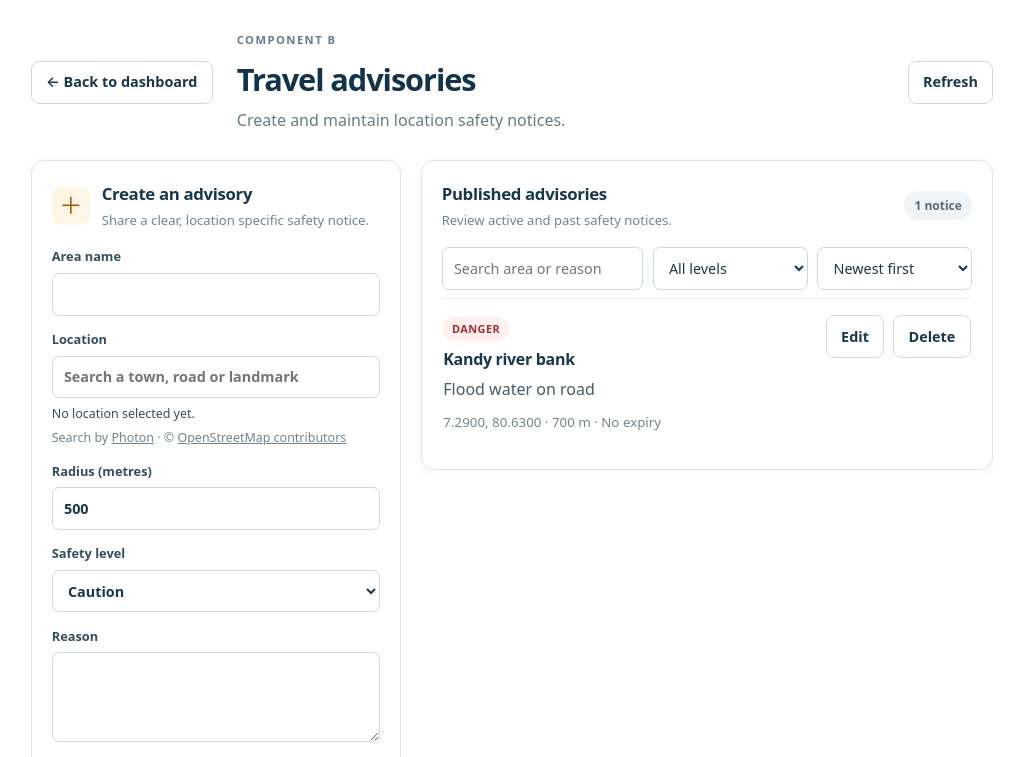
it: Component B travel advisory management › loads advisories through the authenticated API and filters the list
The image size is (1024, 757).
Expected: the heading "Kandy river bank" is shown, top-left (443, 348), bottom-right (575, 370)
Step 1. Type "Galle" into the field named "Search advisories" → (542, 269), box top-left (442, 247), bottom-right (643, 290)
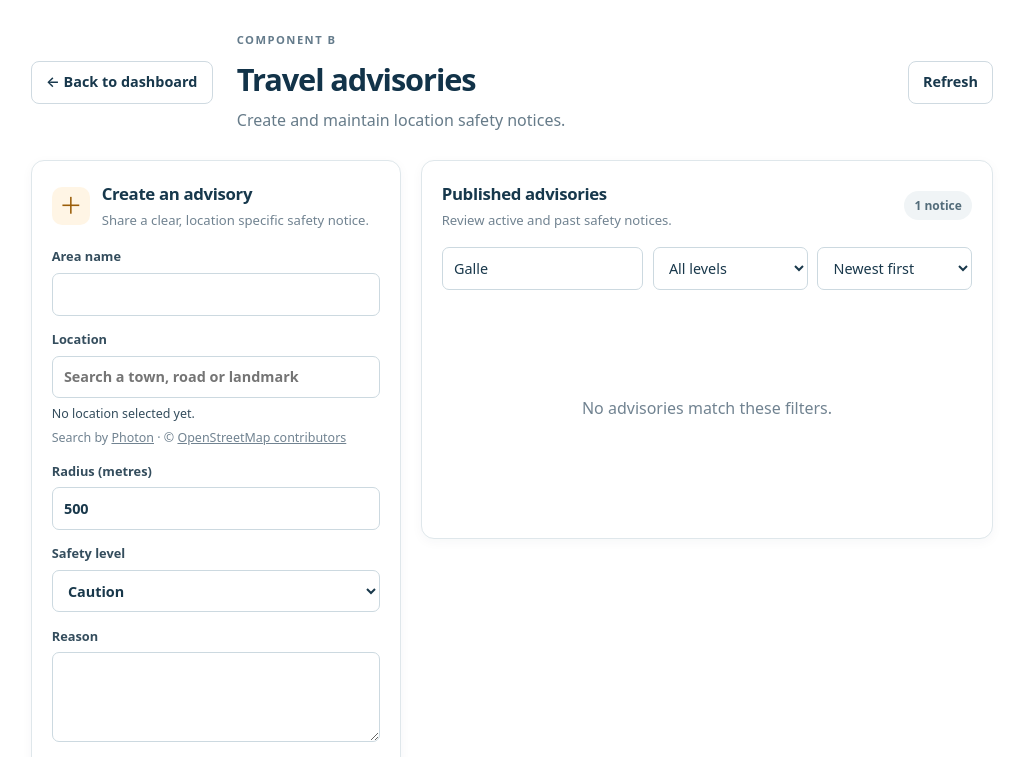
Now the text "No advisories match these filters." is shown, box top-left (582, 397), bottom-right (832, 419)
